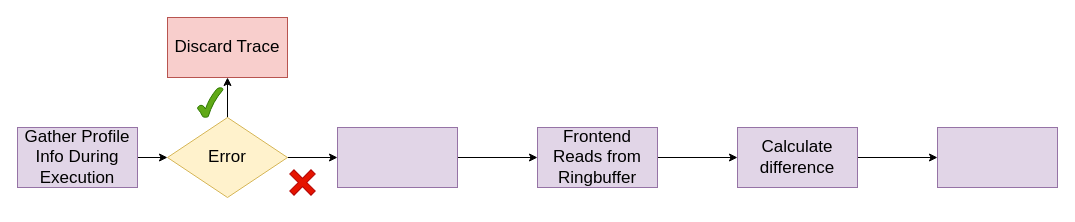
Some shapes in this 1075 by 222 pixel diagram are drawn without their labels. Each missing label, with the centre of its shape:
"Write timestamps to ringbuffer" goes at [397,157].
"Write to {exec}-profile.csv" goes at [997,157].
